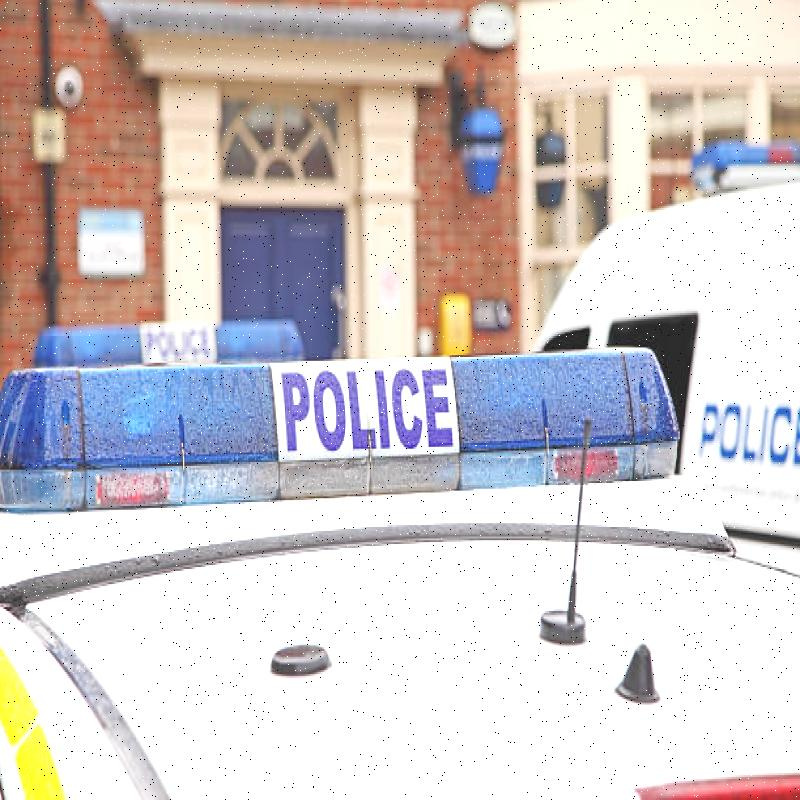AmbulanceSiren: (2, 332, 701, 496)
